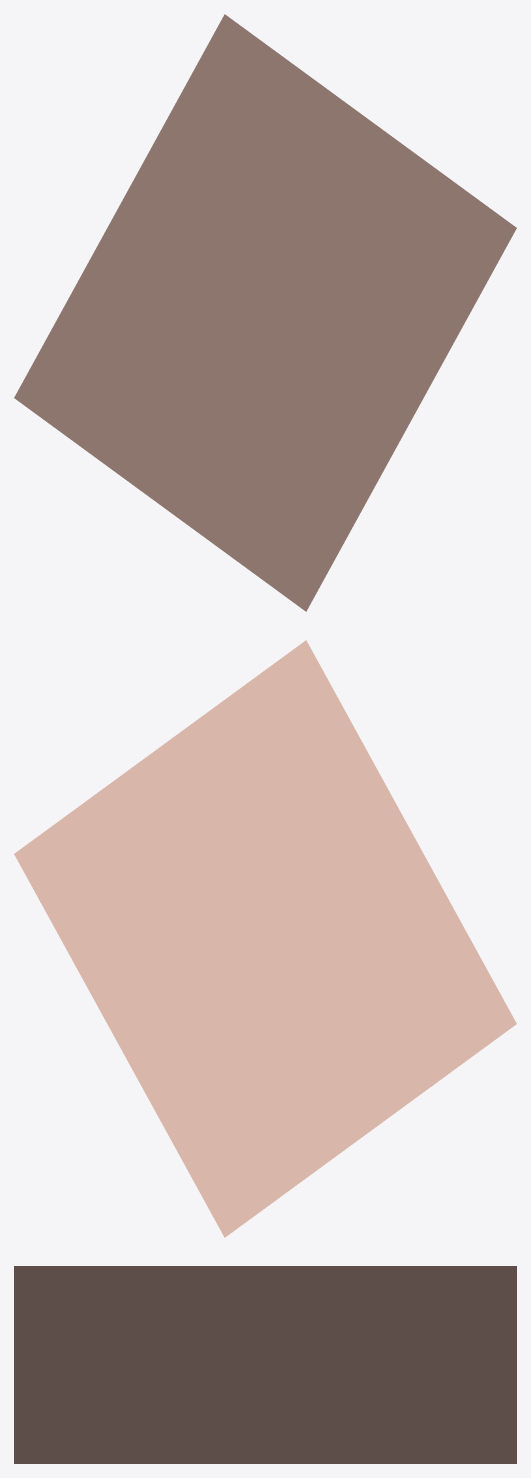
File: SM_MainScreen.fbx
3 renders of one model, top to bottom at view 1: azimuth 30°, elevation 25°; view 2: azimuth 150°, elevation 25°; view 3: azimuth 270°, elevation 25°, orthographic. The views are drawn at different scales.
Visible parts, largest first — view 1: MainScreen_Mesh; view 2: MainScreen_Mesh; view 3: MainScreen_Mesh.
Boxes of the visible parts, left/top/right/bottom form: MainScreen_Mesh: left=14, top=14, right=516, bottom=611; MainScreen_Mesh: left=14, top=640, right=516, bottom=1237; MainScreen_Mesh: left=14, top=1266, right=516, bottom=1463.
Bounding box in the file's own units: 56.74 × 85.56 × 136.
